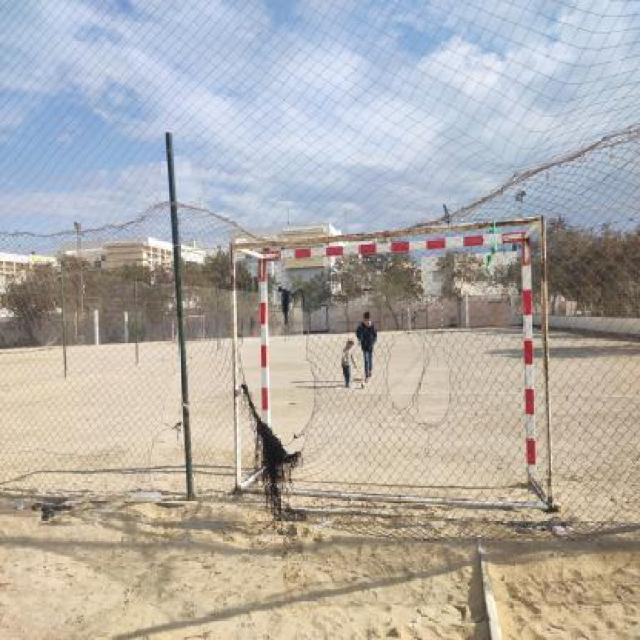fence line: (213, 249, 332, 474), (379, 324, 458, 427), (142, 391, 204, 504)
